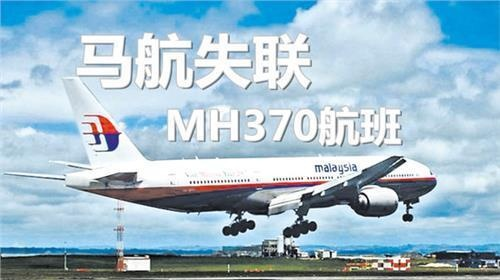airplane: (6, 80, 445, 239)
